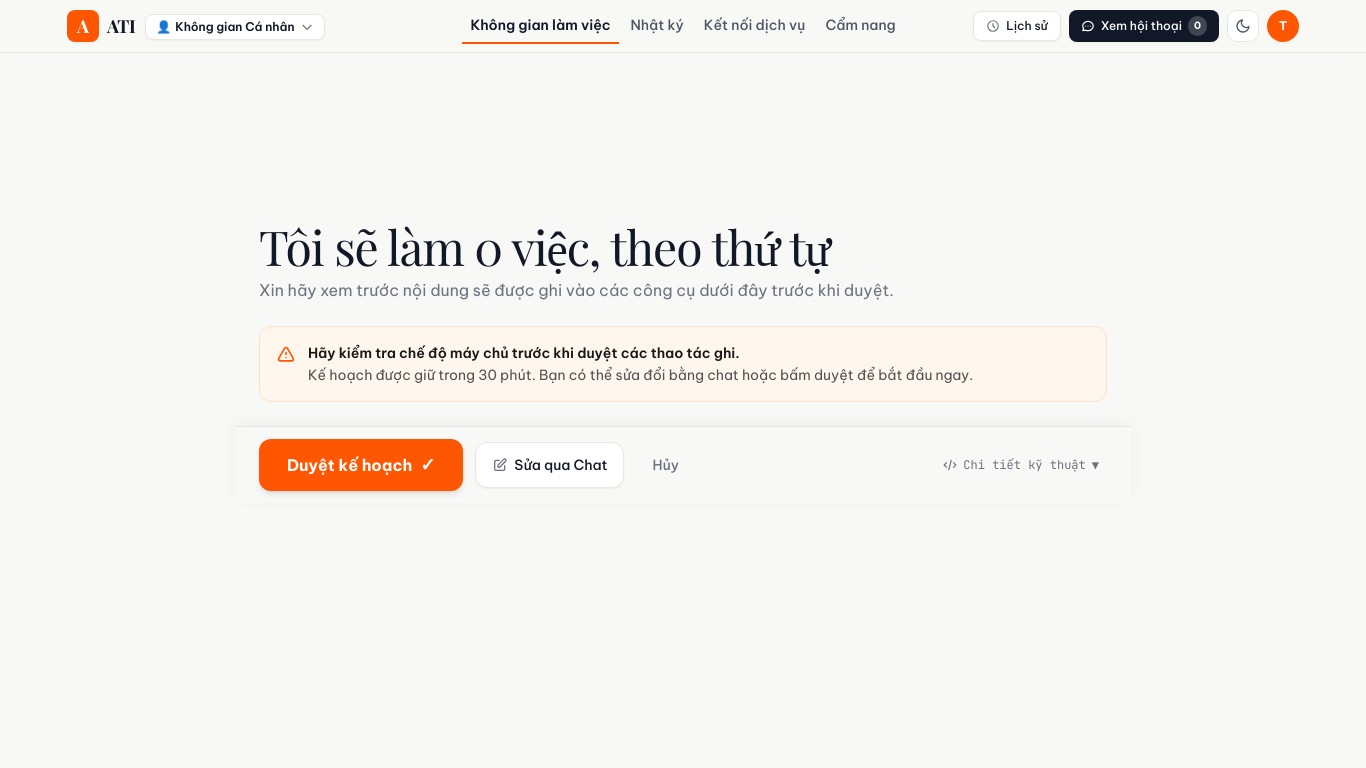
Scenario: keeps the preview when reject fails
Expected: the heading "Tôi sẽ làm 0 việc, theo thứ tự" is shown, top-left (259, 214), bottom-right (830, 278)
What coordinates should you click on to do the following:
click the button "Hủy"
I would click on:
 (666, 465)
Its box is top-left (636, 443), bottom-right (695, 487).
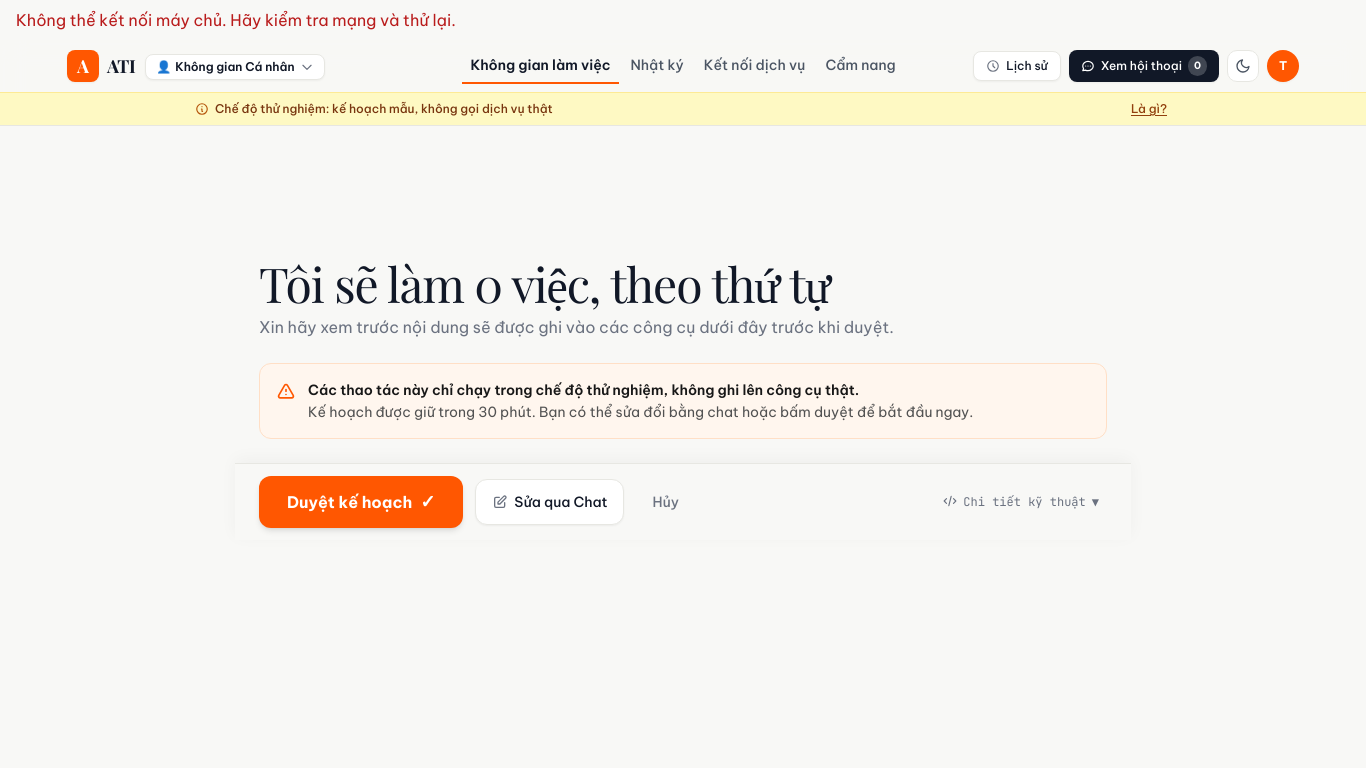
Now the text "Không thể kết nối máy chủ. Hãy kiểm tra mạng và thử lại." is shown, box top-left (16, 10), bottom-right (456, 30)
